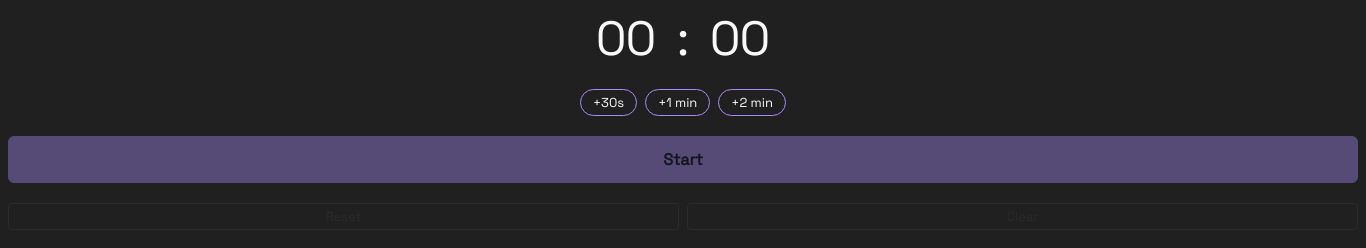
Test: TimerControls › pill buttons › continues running and updates duration when a pill is clicked while the timer is running
The image size is (1366, 248).
Click the button "+1 min".
click(678, 102)  # box [645, 89, 710, 116]
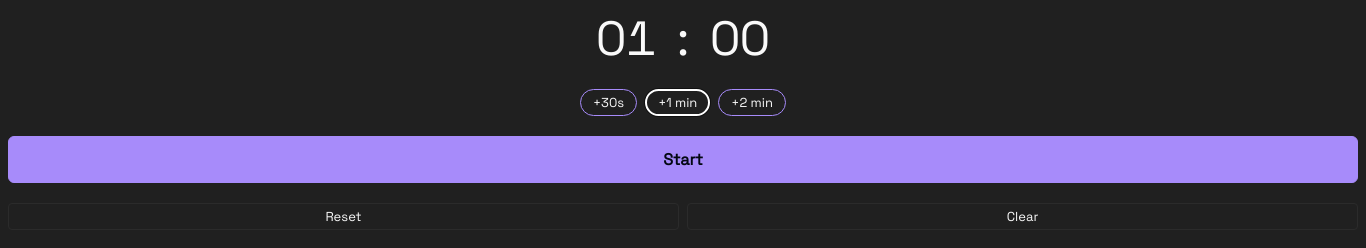
Click the button "Start".
click(683, 160)  # box [8, 136, 1358, 183]
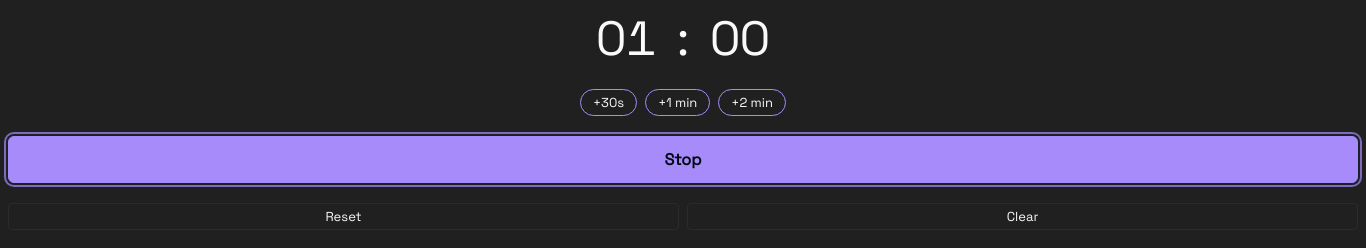
Click the button "+30s".
click(609, 102)  # box [580, 89, 637, 116]
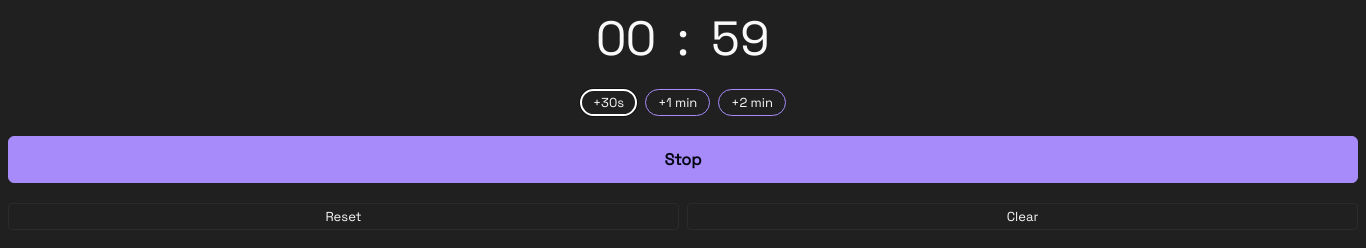
Click the button "Stop".
click(683, 160)  # box [8, 136, 1358, 183]
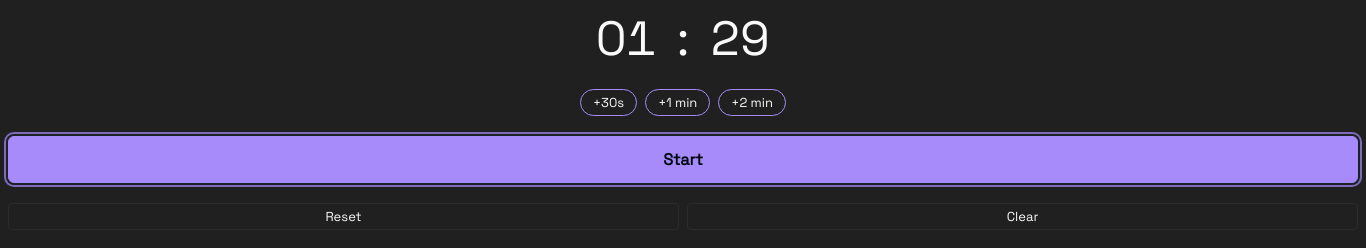
Click the button "Reset".
click(344, 216)  # box [8, 203, 679, 230]
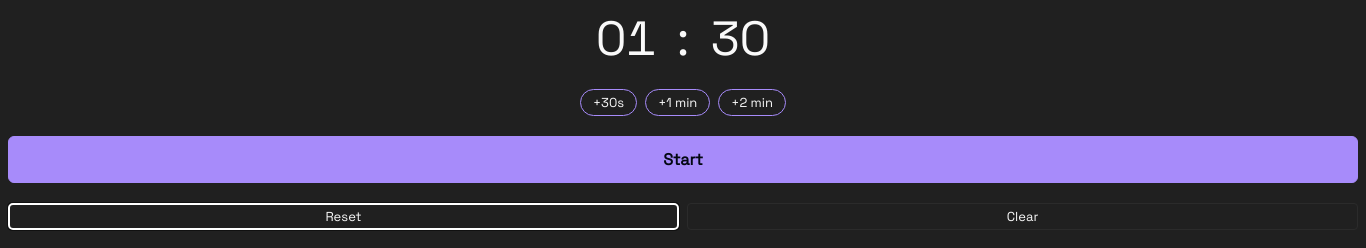
Now the field named "Minutes" holds "01", box [580, 8, 672, 69]
Now the field named "Seconds" holds "30", box [694, 8, 786, 69]
